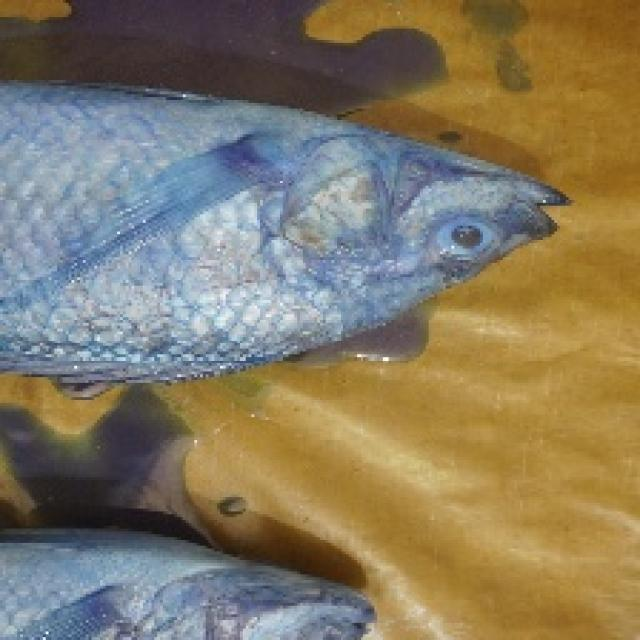Non-Fresh: (12, 67, 567, 384), (422, 206, 499, 273)
